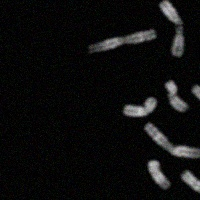chromosome: (87, 28, 155, 57), (144, 124, 200, 158), (159, 0, 183, 56), (166, 80, 187, 112), (146, 161, 169, 190), (125, 97, 157, 116), (182, 169, 200, 200), (193, 86, 200, 116)
